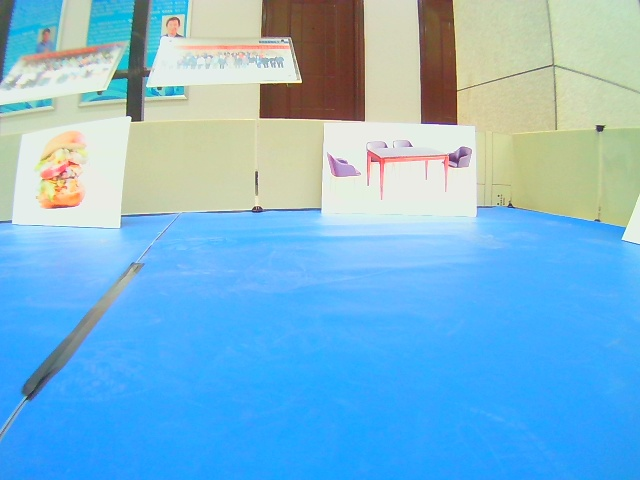food: (9, 117, 131, 230)
table: (322, 123, 480, 218)
